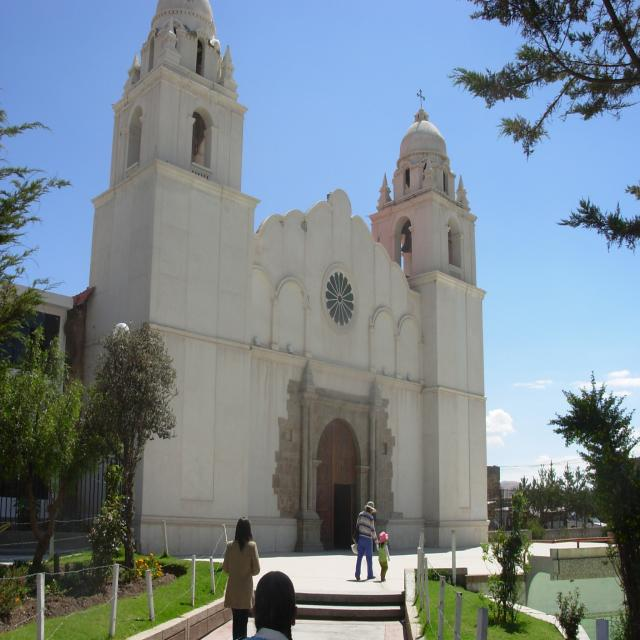CAMPANARIO: (373, 198, 497, 294)
CUPULA: (388, 102, 475, 182)
PORTADA CENTRAL: (282, 382, 389, 562)
SIMETRIA COLONIAL: (91, 160, 495, 548)
TORRES: (368, 132, 502, 552)
colonial-architecture-: (52, 6, 513, 547)
